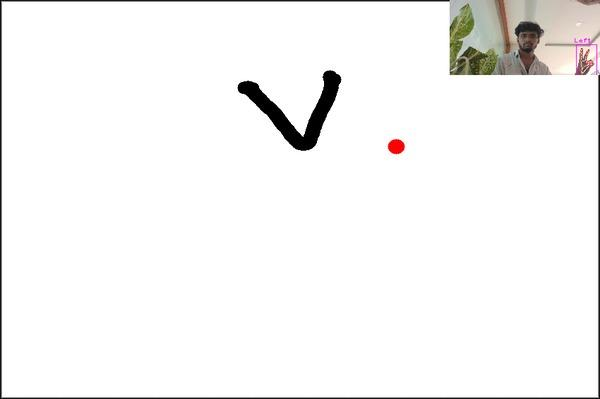V: (229, 67, 358, 155)
